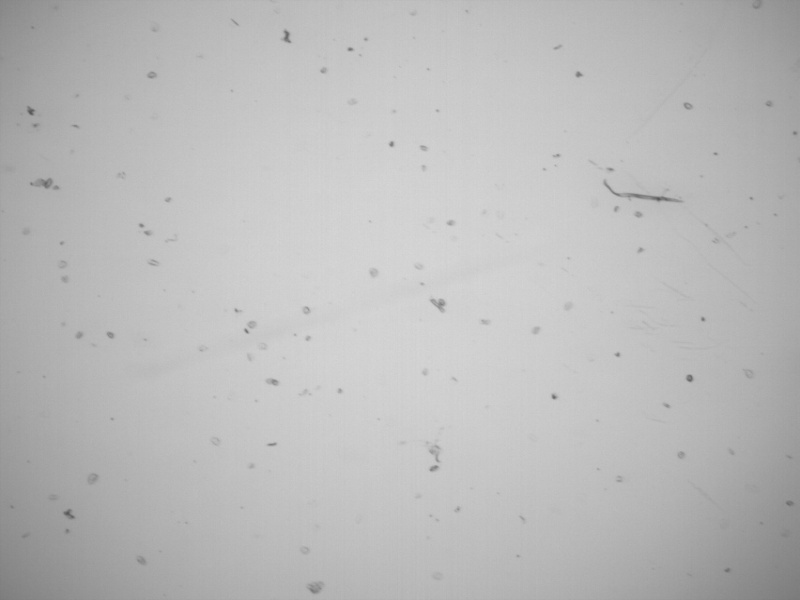fiber: (599, 176, 686, 206)
